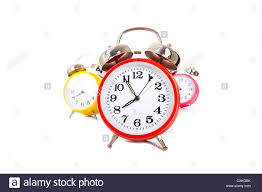alarm_clock: (59, 22, 207, 149), (59, 32, 207, 149)
